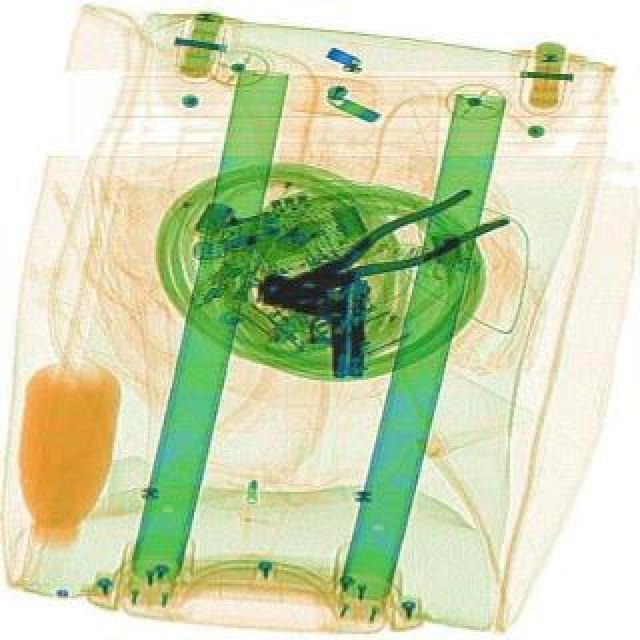gun: (250, 272, 380, 384)
wrench: (254, 182, 516, 330)
